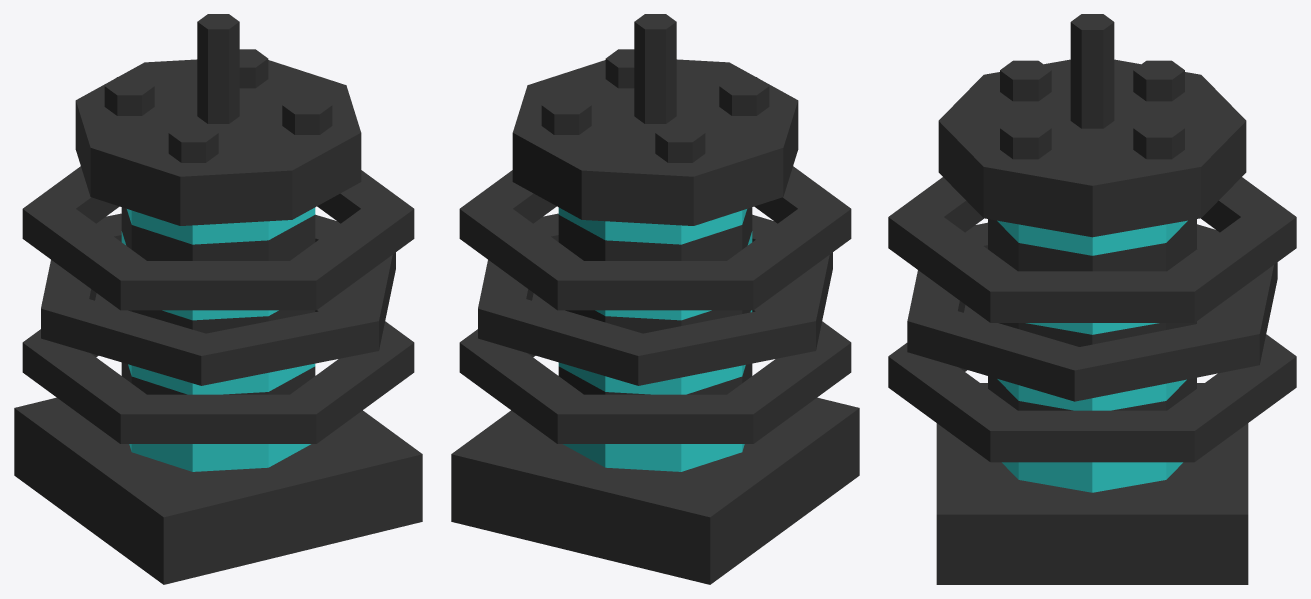
File: Hew_3_1.fbx
3 views of the same model, side by side, from view 1: azimuth 30°, elevation 25°; view 2: azimuth 150°, elevation 25°; view 3: azimuth 270°, elevation 25° (orthographic). The views are drawn at different scales.
Parts seen in each view (by area): view 1: Cube.003, Cylinder.002, Cylinder, Cylinder.001; view 2: Cube.003, Cylinder.002, Cylinder, Cylinder.001; view 3: Cube.003, Cylinder.002, Cylinder, Cylinder.001.
Part boxes in pixels (x1,y1,x2,y2): Cube.003: [14, 59, 422, 584]; Cylinder.002: [22, 166, 414, 443]; Cylinder: [104, 49, 332, 162]; Cylinder.001: [197, 14, 239, 123]; Cube.003: [451, 59, 859, 584]; Cylinder.002: [459, 166, 851, 443]; Cylinder: [541, 49, 769, 162]; Cylinder.001: [634, 14, 676, 123]; Cube.003: [936, 59, 1248, 584]; Cylinder.002: [888, 177, 1296, 462]; Cylinder: [1000, 60, 1184, 159]; Cylinder.001: [1070, 14, 1114, 128].
Bounding box in the file's own units: 261 × 352 × 262.
